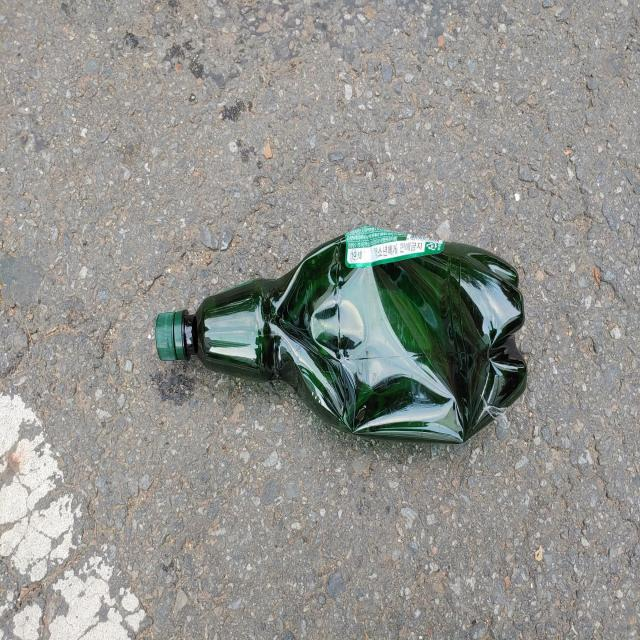plastic: (155, 225, 528, 443)
